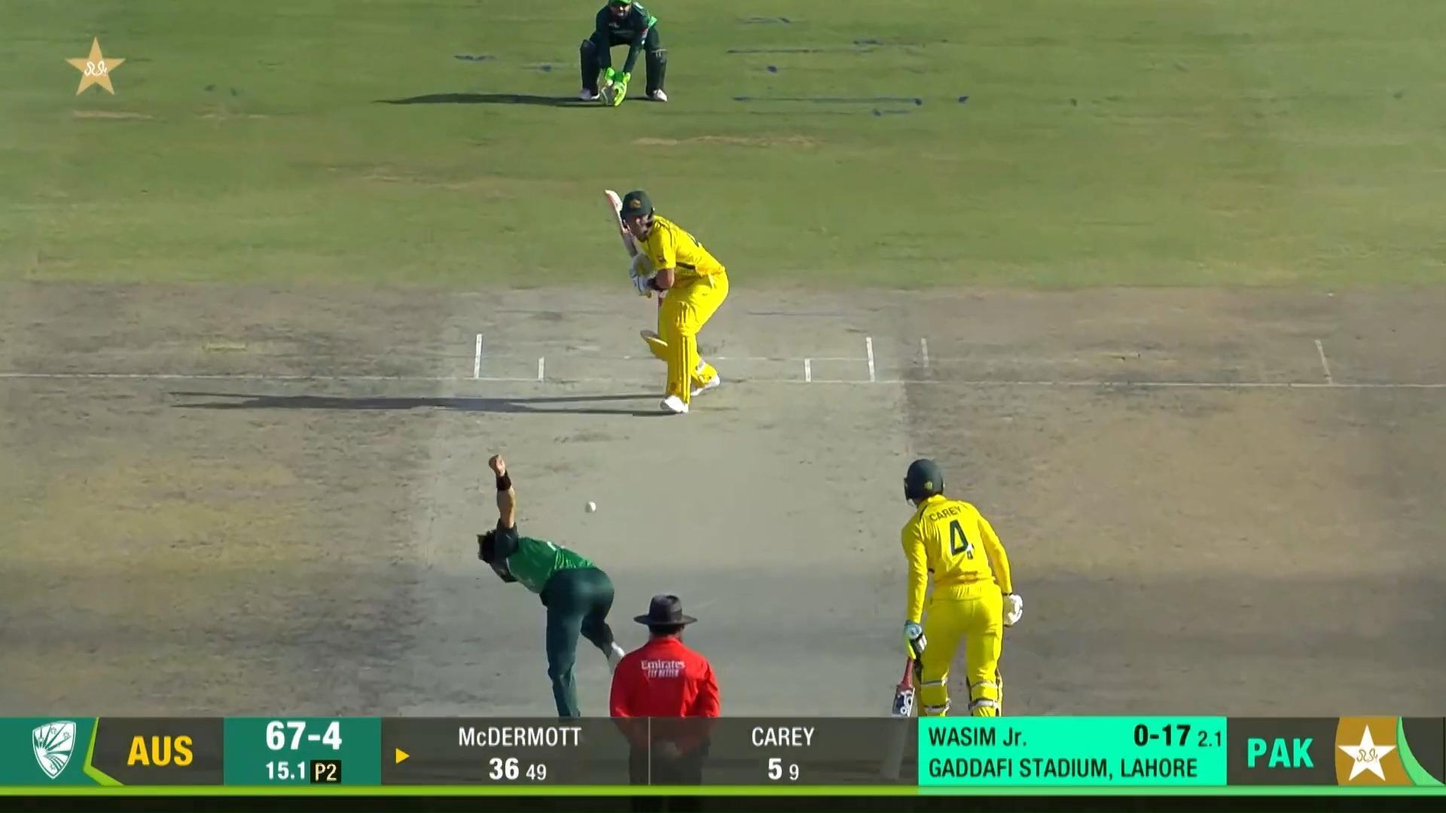BM 1: (604, 190, 729, 414)
BO: (477, 455, 624, 719)
